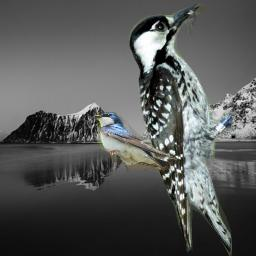Swallow: (95, 112, 177, 173)
Woodpecker: (128, 3, 232, 256)
